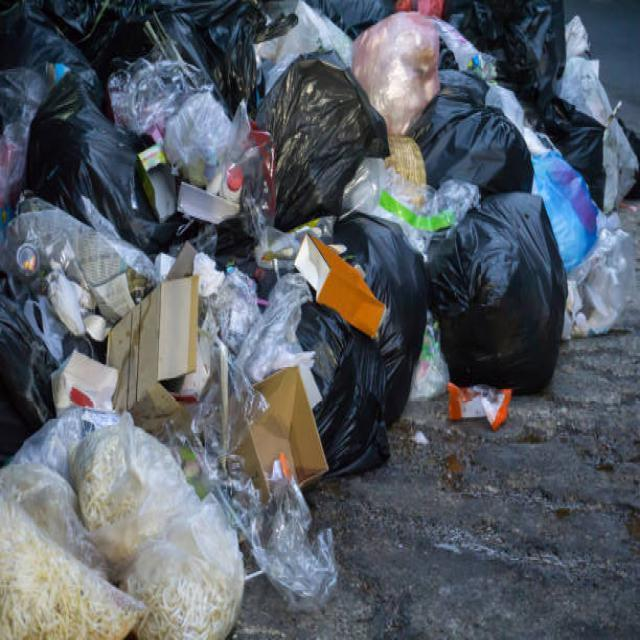Trashbag: (427, 194, 570, 400), (258, 58, 397, 220), (23, 78, 153, 236), (410, 101, 534, 202), (353, 208, 428, 370), (466, 2, 572, 108), (294, 322, 379, 450), (544, 97, 619, 209)
